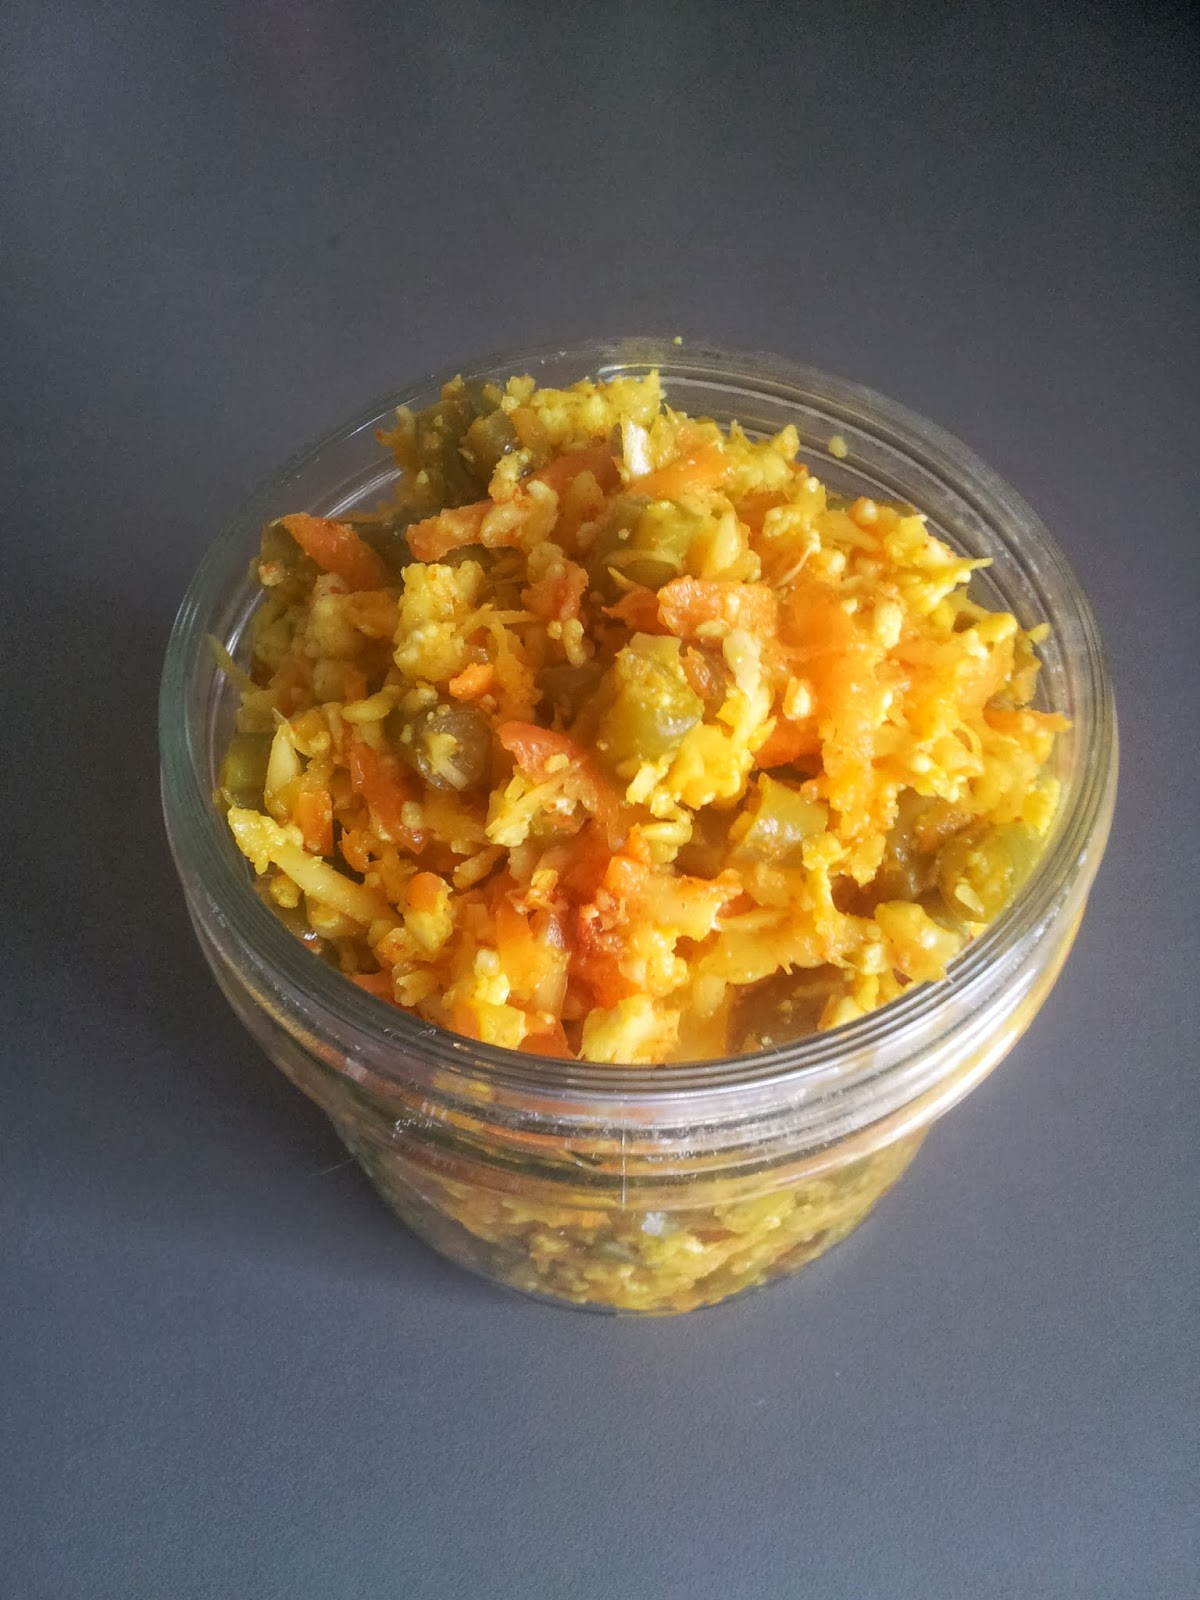Légumes achés au curcuma: (159, 324, 1151, 1091)
